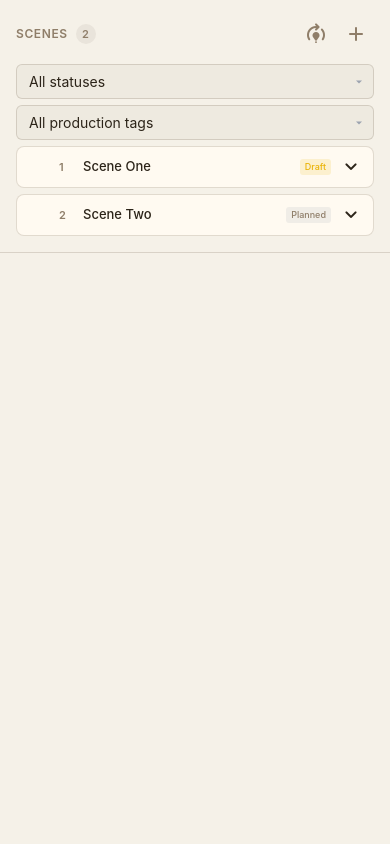
Test: ScenePlanner › opens popout editor when Expand button clicked
Click the element showing "1 Scene One draft". click: (117, 166)
box: left=17, top=147, right=373, bottom=187
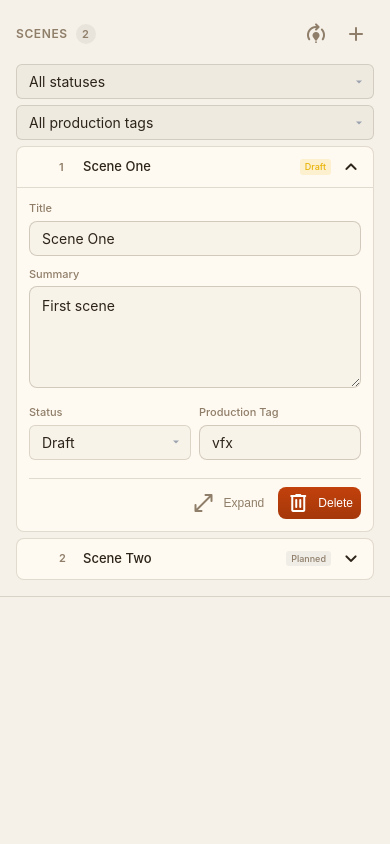
Now the button "Expand" is shown
Click the button "Expand". click: (228, 502)
box: left=184, top=486, right=272, bottom=518
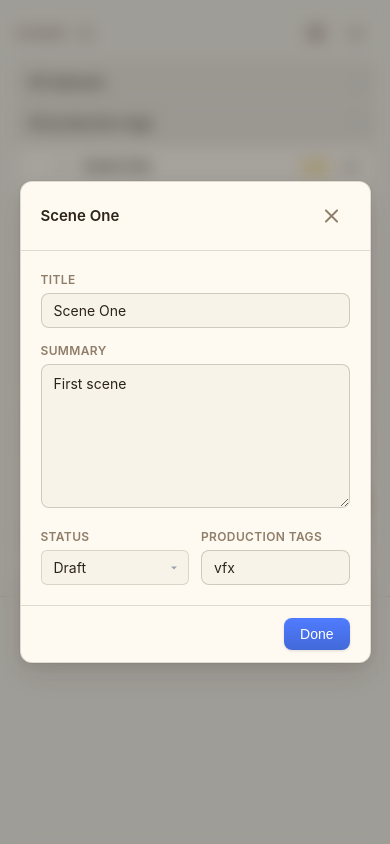
Now the text "Done" is shown, box left=284, top=618, right=350, bottom=650
